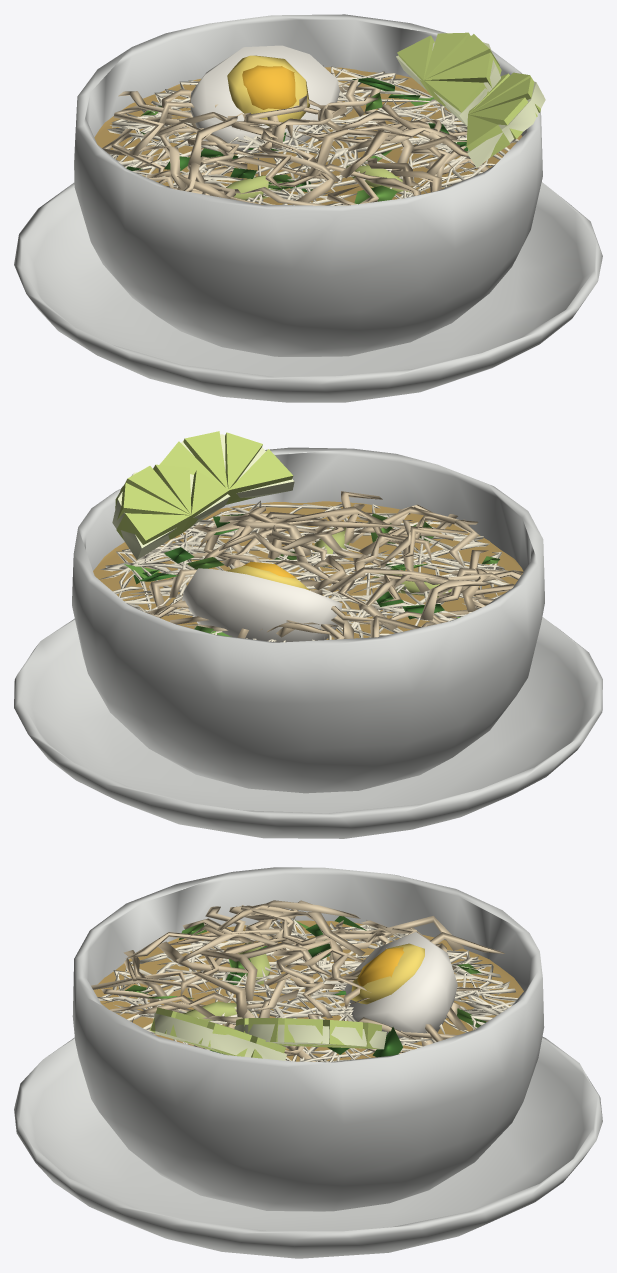
Rendered from soto kudus  low poly.fbx.
3 views of the same model, one above another, from view 1: azimuth 30°, elevation 25°; view 2: azimuth 150°, elevation 25°; view 3: azimuth 270°, elevation 25° (orthographic).
Parts seen in each view (by area): view 1: Soto_Kudus_Isi.001; view 2: Soto_Kudus_Isi.001; view 3: Soto_Kudus_Isi.001.
Boxes of the visible parts, x1=… form: Soto_Kudus_Isi.001: x1=14, y1=14, x2=602, y2=402; Soto_Kudus_Isi.001: x1=14, y1=431, x2=602, y2=838; Soto_Kudus_Isi.001: x1=14, y1=867, x2=602, y2=1258.
Size of the model in its own units: 22.06 by 9.61 by 22.06.
